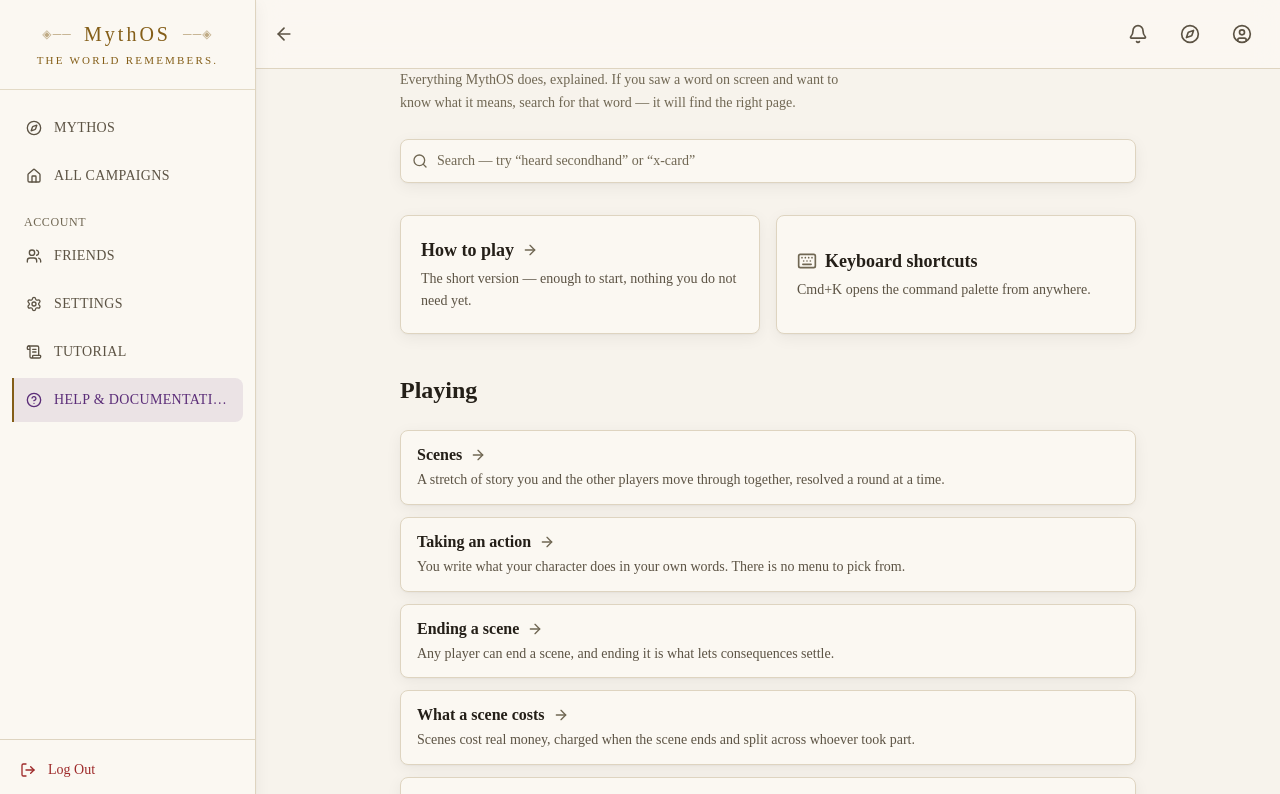
Scenario: /help › finds a topic by a phrase the player actually saw on screen
Type "heard secondhand" into the search field named "Search help".
click(768, 160); type("heard secondhand")  # box [400,138,1136,182]
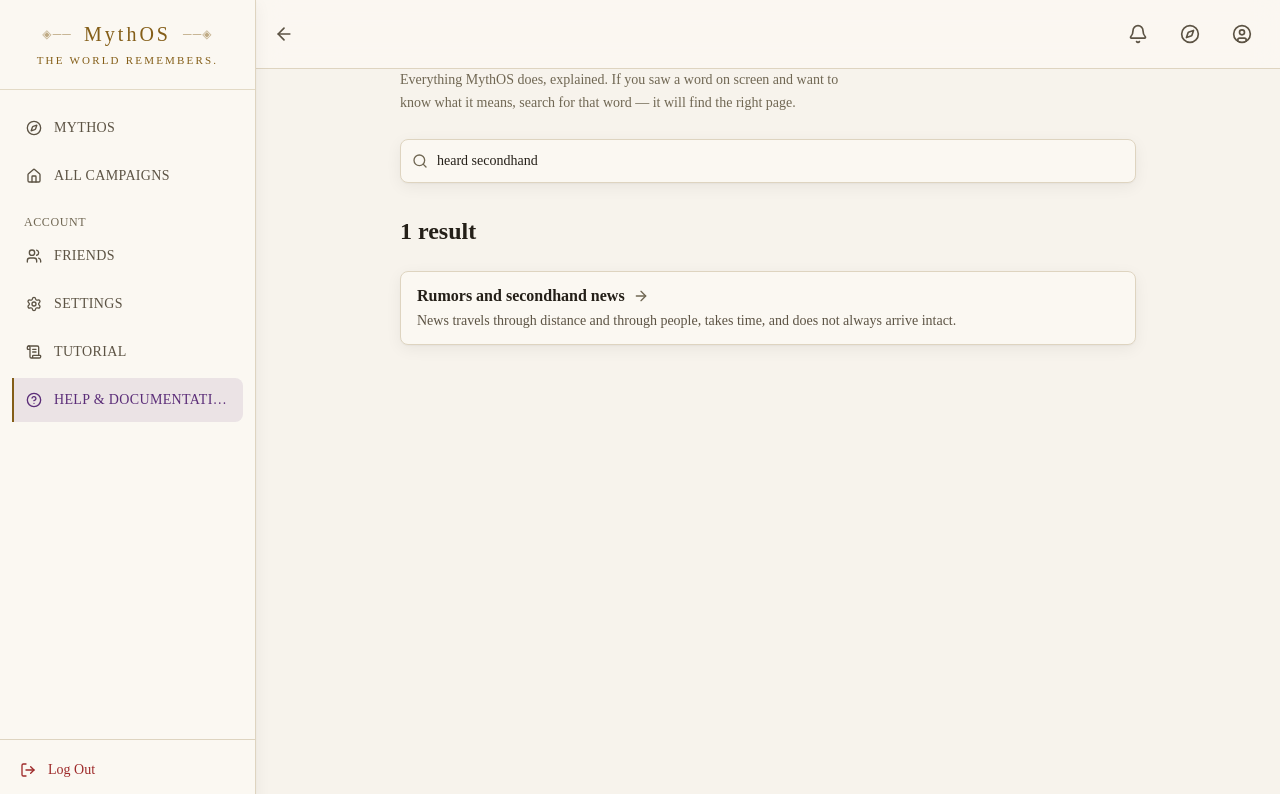
Expected: the text "Rumors and secondhand news" is shown, [417,286,649,304]
Now the link "Taking an action" is gone
